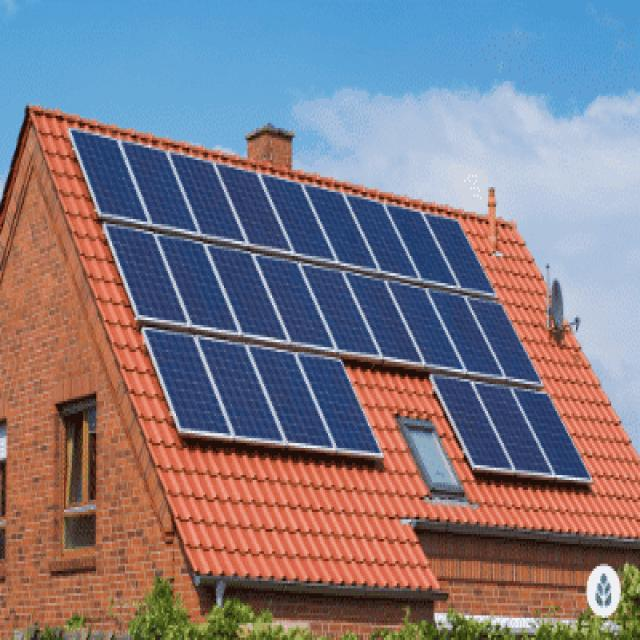clean-solar-panel: (72, 131, 590, 480)
